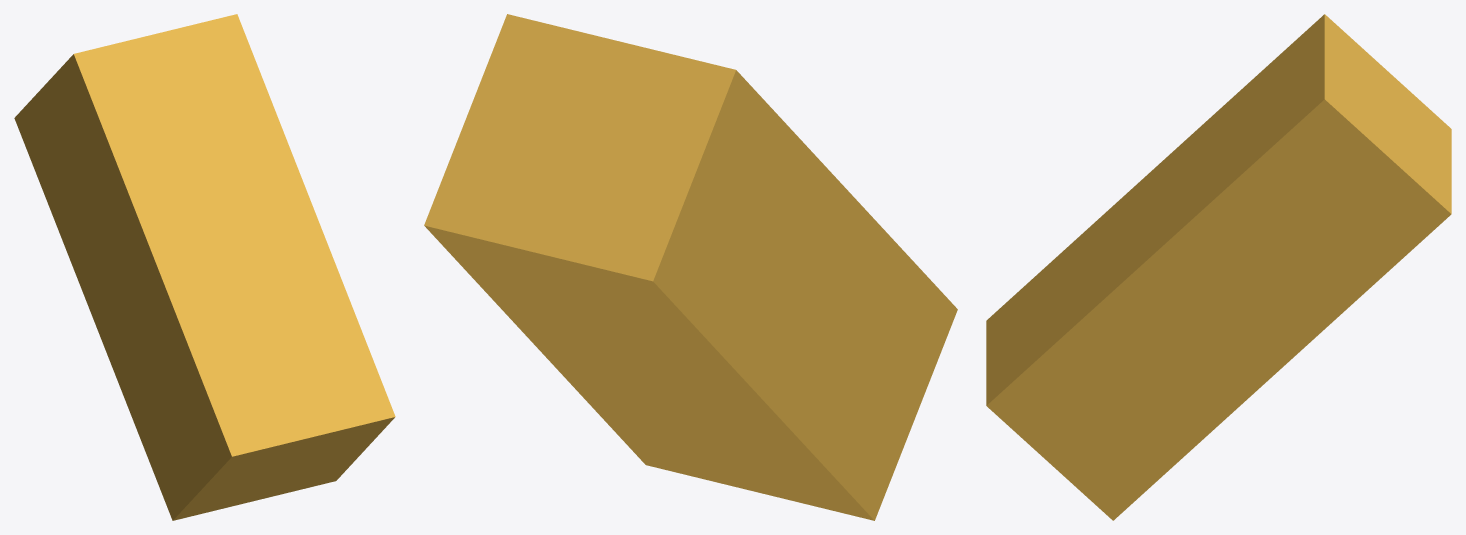
File: Levier.glb
3 views of the same model, side by side, from view 1: azimuth 30°, elevation 25°; view 2: azimuth 150°, elevation 25°; view 3: azimuth 270°, elevation 25° (orthographic). The views are drawn at different scales.
Parts seen in each view (by area): view 1: Cube.009; view 2: Cube.009; view 3: Cube.009.
Boxes of the visible parts, x1,y1,x2,y2 form: Cube.009: (14,14,395,520); Cube.009: (424,14,957,520); Cube.009: (986,14,1451,520).
Size of the model in its own units: 0.0949 by 0.2188 by 0.2188.
